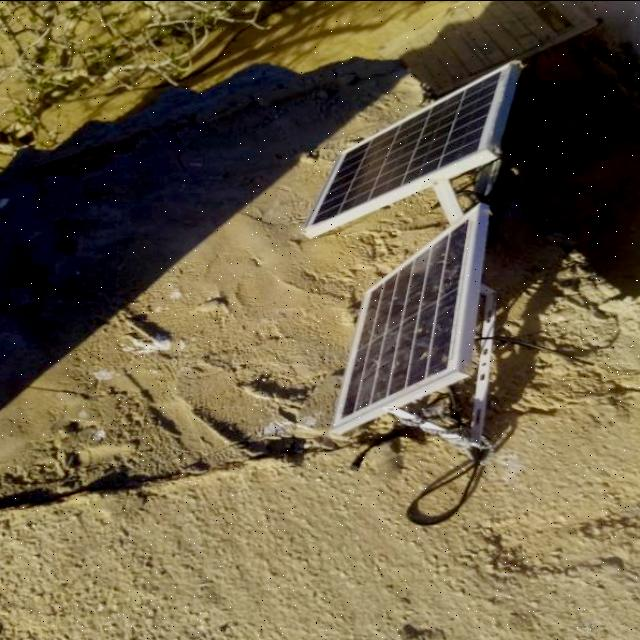Normal Solar Panel: (303, 62, 509, 228)
